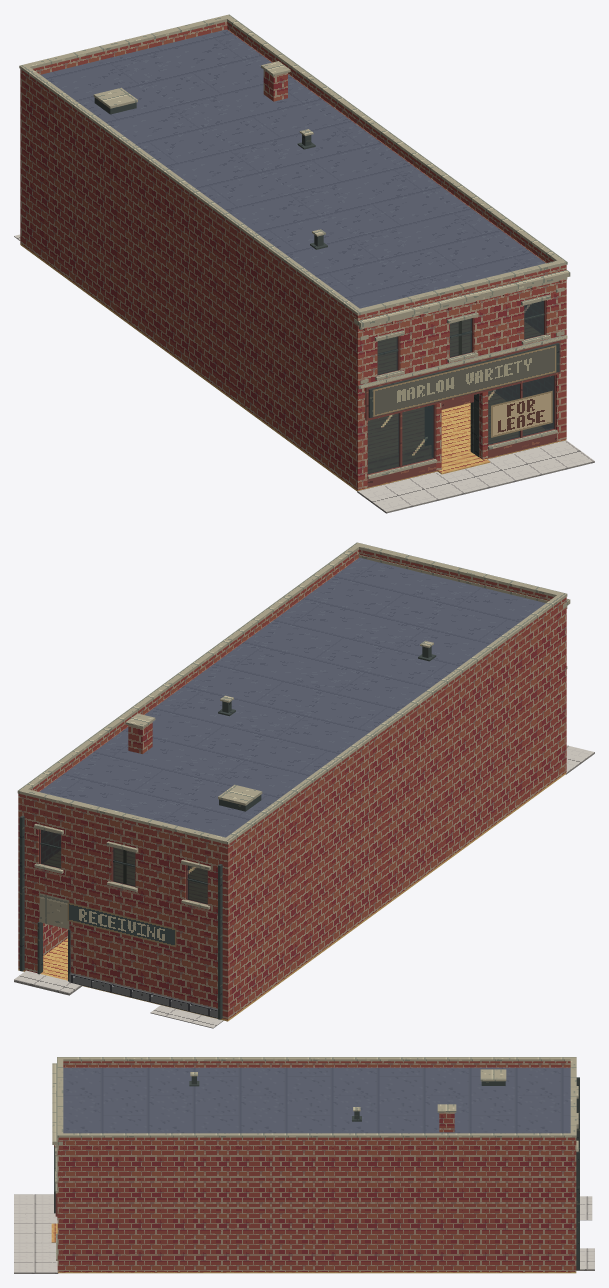
File: marlow-closed-mid.glb
The picture shows the model from 3 angles, top to bottom: view 1: azimuth 30°, elevation 25°; view 2: azimuth 150°, elevation 25°; view 3: azimuth 270°, elevation 25°; orthographic projection. The views are drawn at different scales.
Visible parts, largest first — view 1: building_shell, roof_and_parapet, Shared street sidewalk, sign_name, sign_for_lease; view 2: building_shell, roof_and_parapet, sign_receiving, Rear receiving pad, lot; view 3: building_shell, roof_and_parapet, Shared street sidewalk, Rear receiving pad, lot.
Boxes of the visible parts, x1,y1,x2,y2 form: building_shell: (20,29,567,491); roof_and_parapet: (19,14,570,330); Shared street sidewalk: (357,440,594,513); sign_name: (373,345,556,416); sign_for_lease: (491,390,552,437); building_shell: (18,557,567,1021); roof_and_parapet: (17,542,570,854); sign_receiving: (67,902,176,947); Rear receiving pad: (14,970,81,995); lot: (150,1005,223,1028); building_shell: (51,1067,579,1273); roof_and_parapet: (52,1057,576,1147); Shared street sidewalk: (14,1194,58,1273); Rear receiving pad: (576,1248,594,1270); lot: (580,1196,592,1220).
Size of what is drawn, in the model's own units: 10.05 by 9.06 by 31.36.
10 materials, 10 textured.
